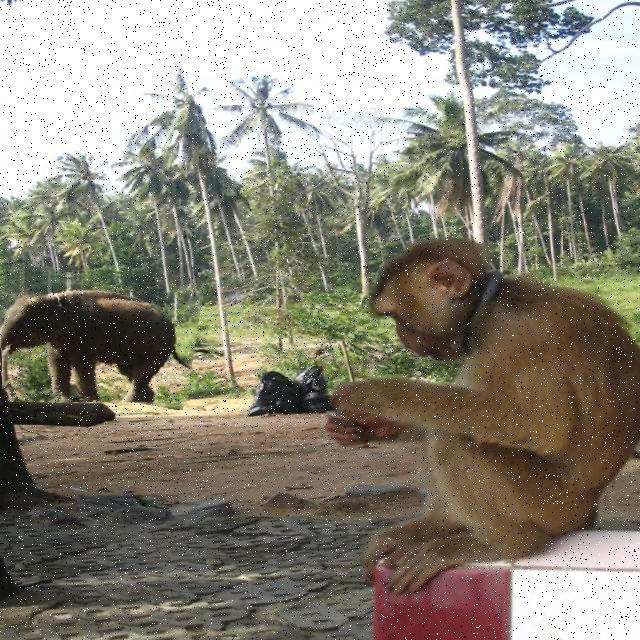elephant: (0, 270, 199, 402)
